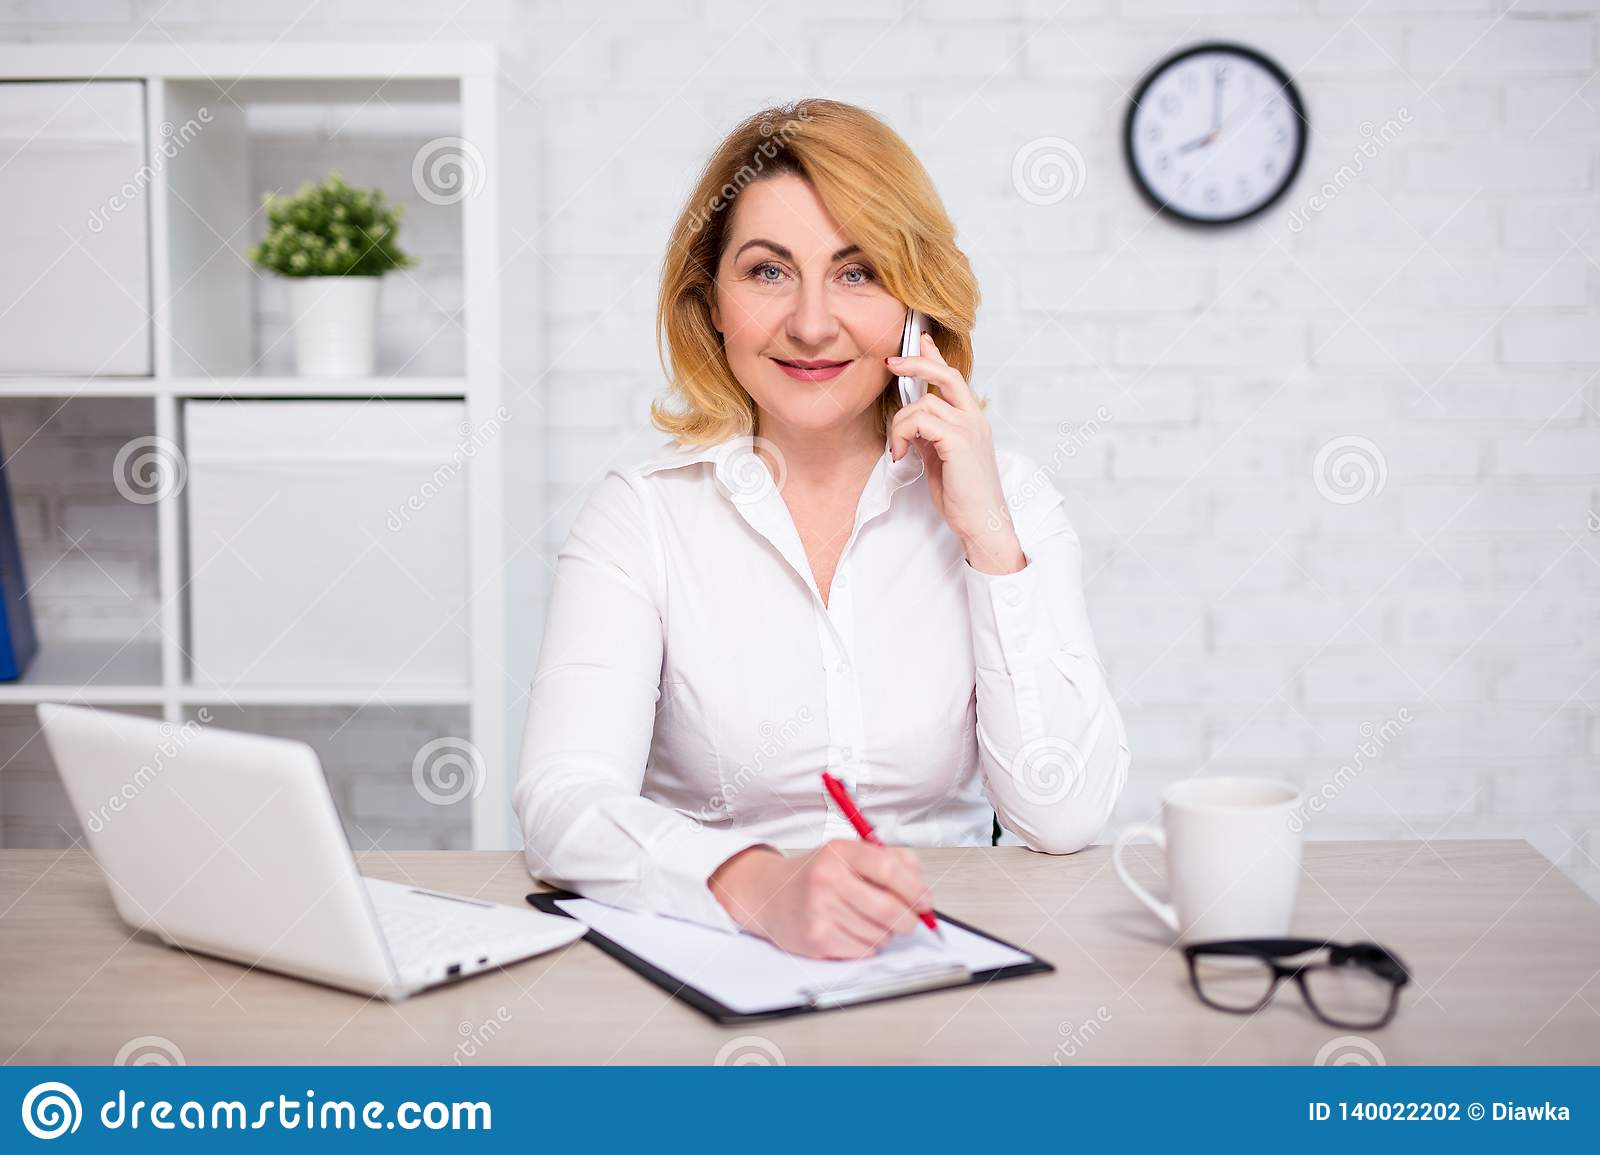phone: (894, 299, 938, 446)
talk: (724, 230, 1007, 550)
